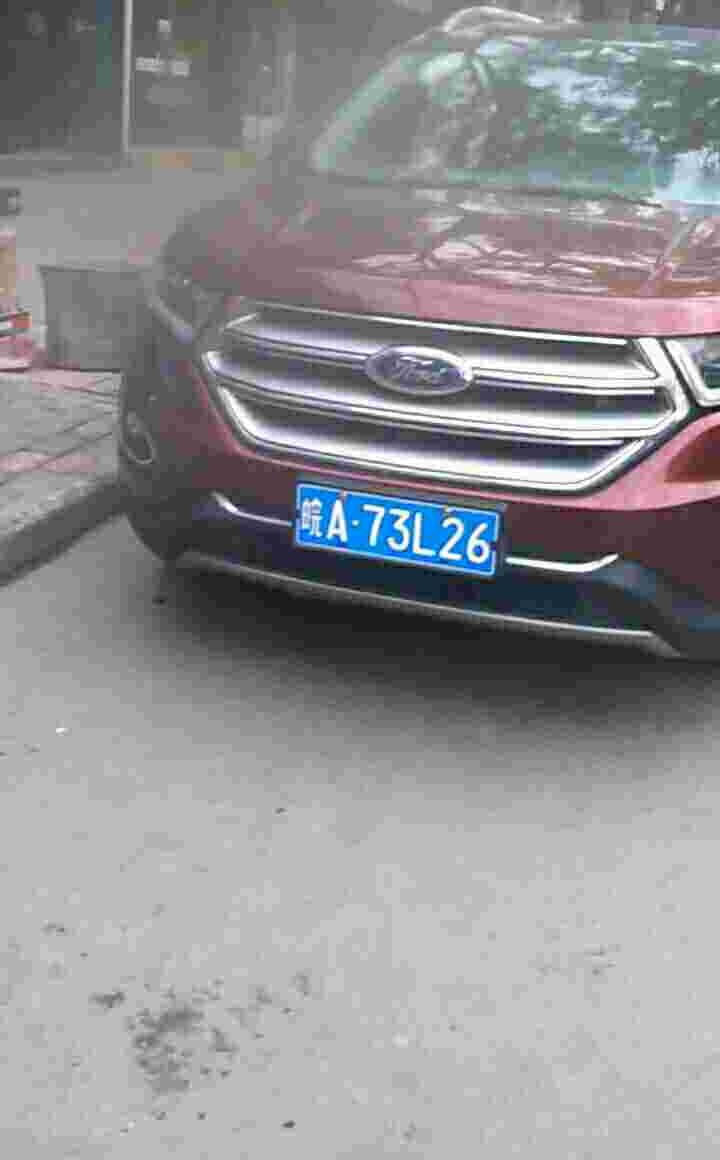plate: (292, 479, 503, 581)
